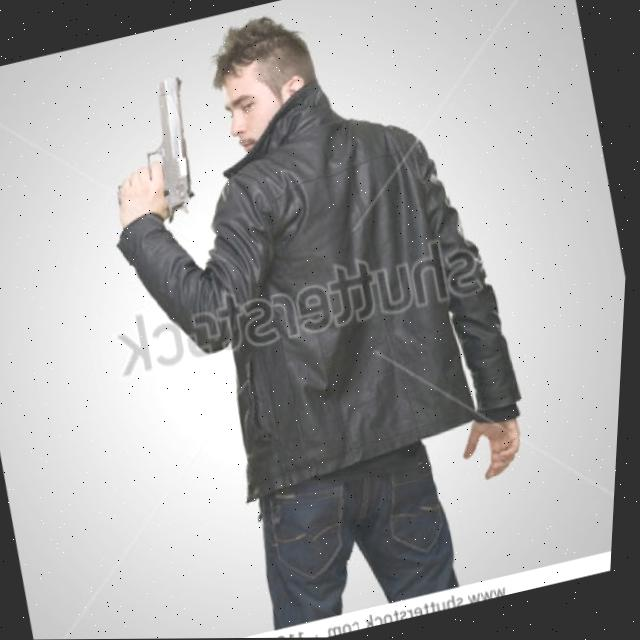pistol: (127, 74, 210, 222)
